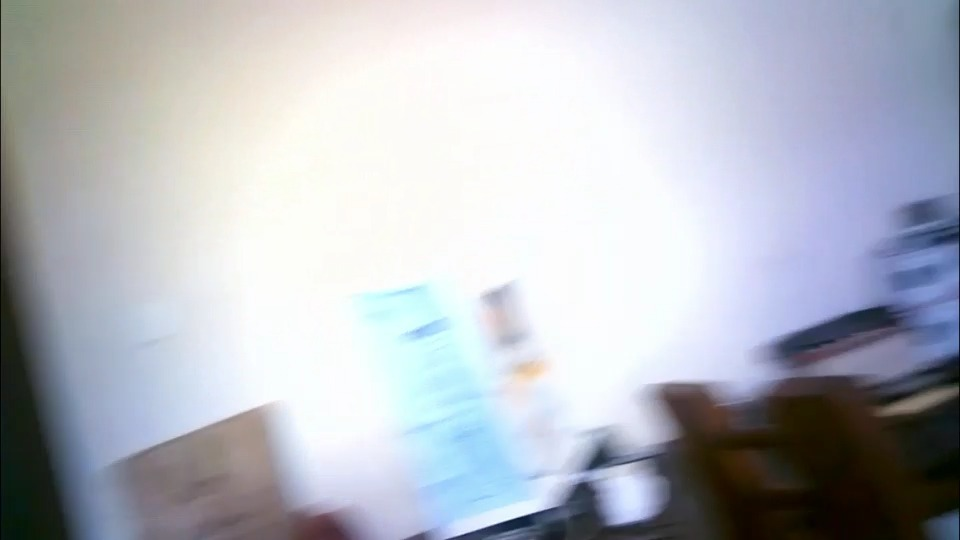wheat_flour_blue_label: (367, 279, 578, 504)
